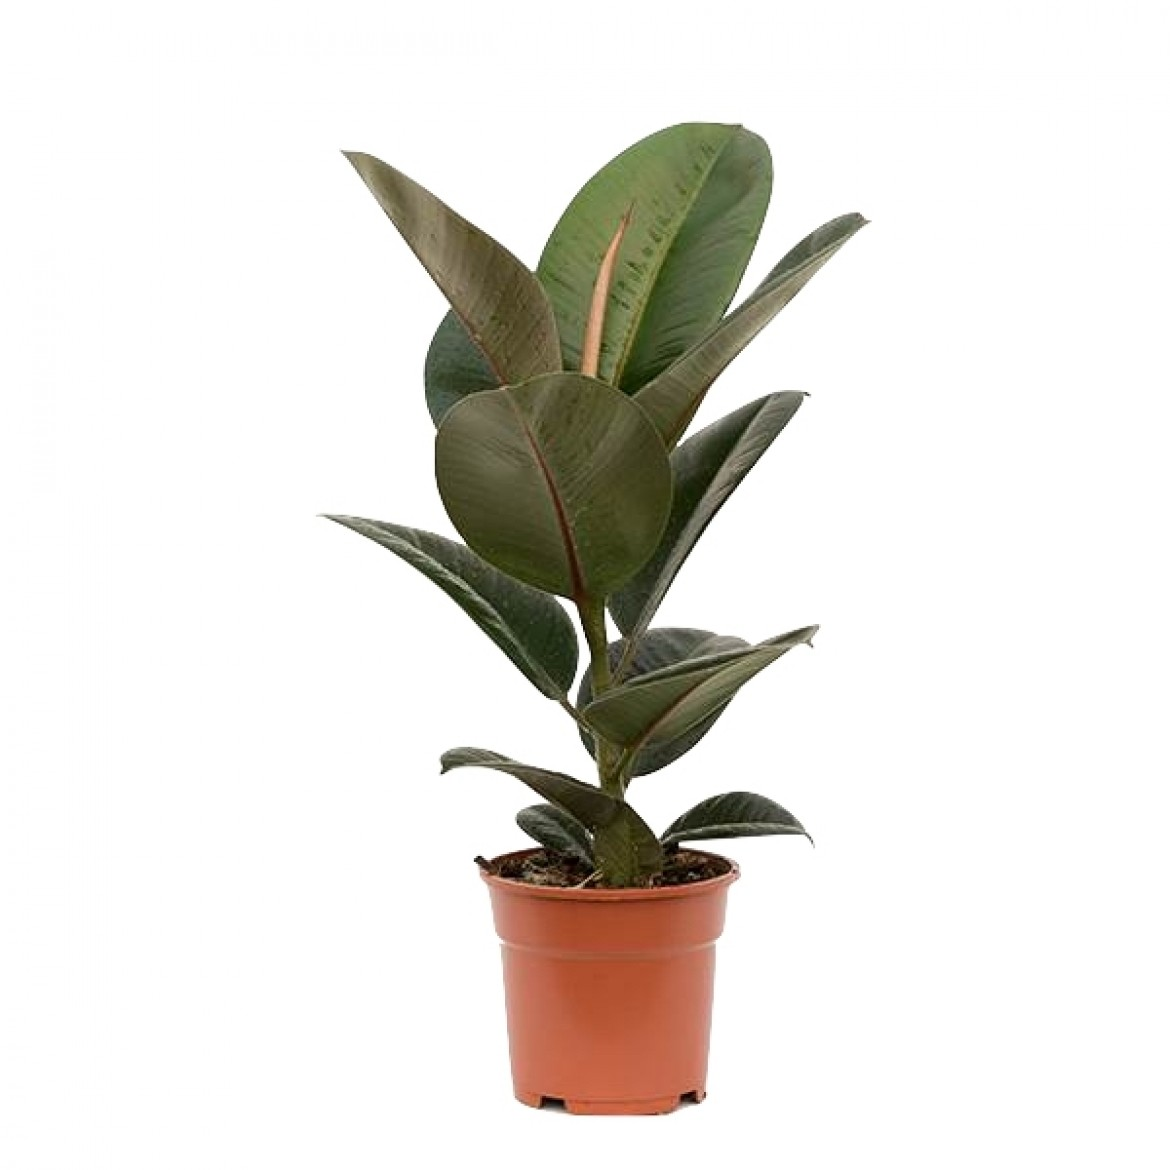plant: (318, 1, 905, 1162)
